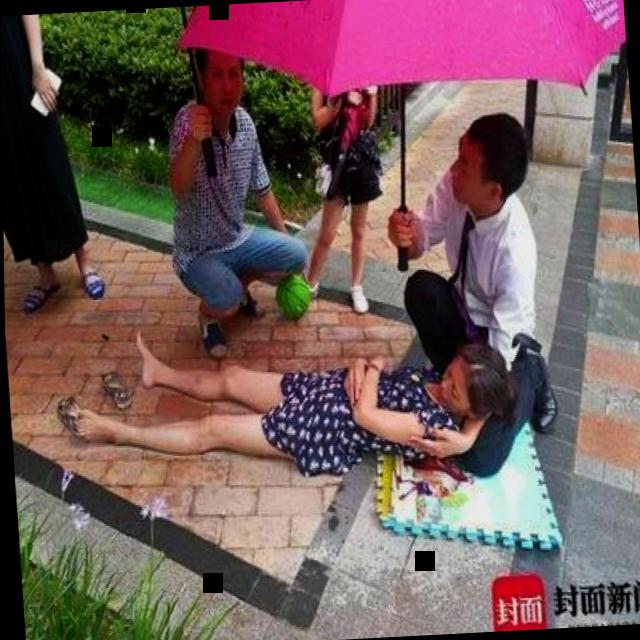Fall-Detected: (30, 310, 535, 496)
